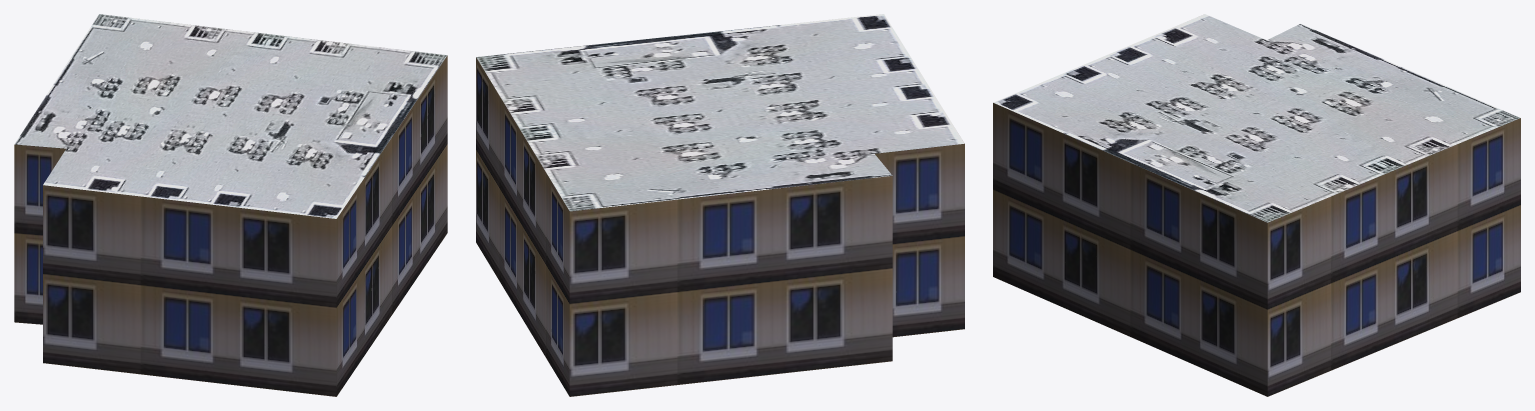
The model's file is ResTex__4786.fbx.
The picture shows the model from 3 angles, left to right: view 1: azimuth 30°, elevation 25°; view 2: azimuth 150°, elevation 25°; view 3: azimuth 270°, elevation 25°; orthographic projection. The views are drawn at different scales.
Parts seen in each view (by area): view 1: CityEngineMaterial_5_m, CityEngineMaterial_4_m; view 2: CityEngineMaterial_5_m, CityEngineMaterial_4_m; view 3: CityEngineMaterial_5_m, CityEngineMaterial_4_m.
Boxes of the visible parts, bbox=[...] form: CityEngineMaterial_5_m: bbox=[14, 55, 447, 396]; CityEngineMaterial_4_m: bbox=[14, 14, 447, 218]; CityEngineMaterial_5_m: bbox=[476, 57, 964, 396]; CityEngineMaterial_4_m: bbox=[476, 14, 964, 211]; CityEngineMaterial_5_m: bbox=[993, 103, 1520, 396]; CityEngineMaterial_4_m: bbox=[993, 14, 1520, 222].
Size of the model in its own units: 15.41 by 6 by 16.47.
Materials: 2 (2 with a texture image).
